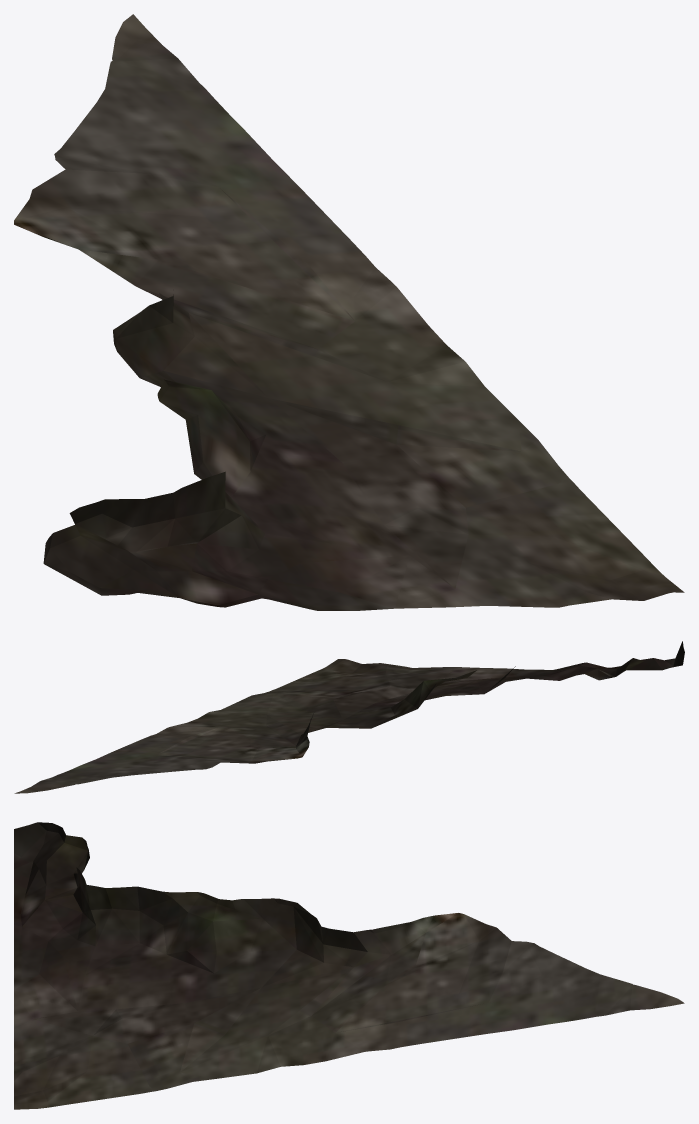
3 renders of one model, top to bottom at view 1: azimuth 30°, elevation 25°; view 2: azimuth 150°, elevation 25°; view 3: azimuth 270°, elevation 25°, orthographic. The views are drawn at different scales.
Bounding box in the file's own units: 0.5209 × 0.1416 × 0.8101.
Materials: 1 (1 with a texture image).
